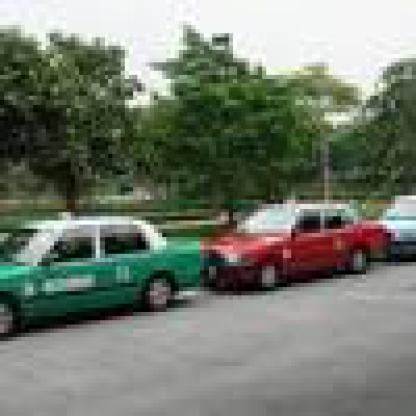taxi: (1, 205, 205, 342), (205, 197, 392, 301)
